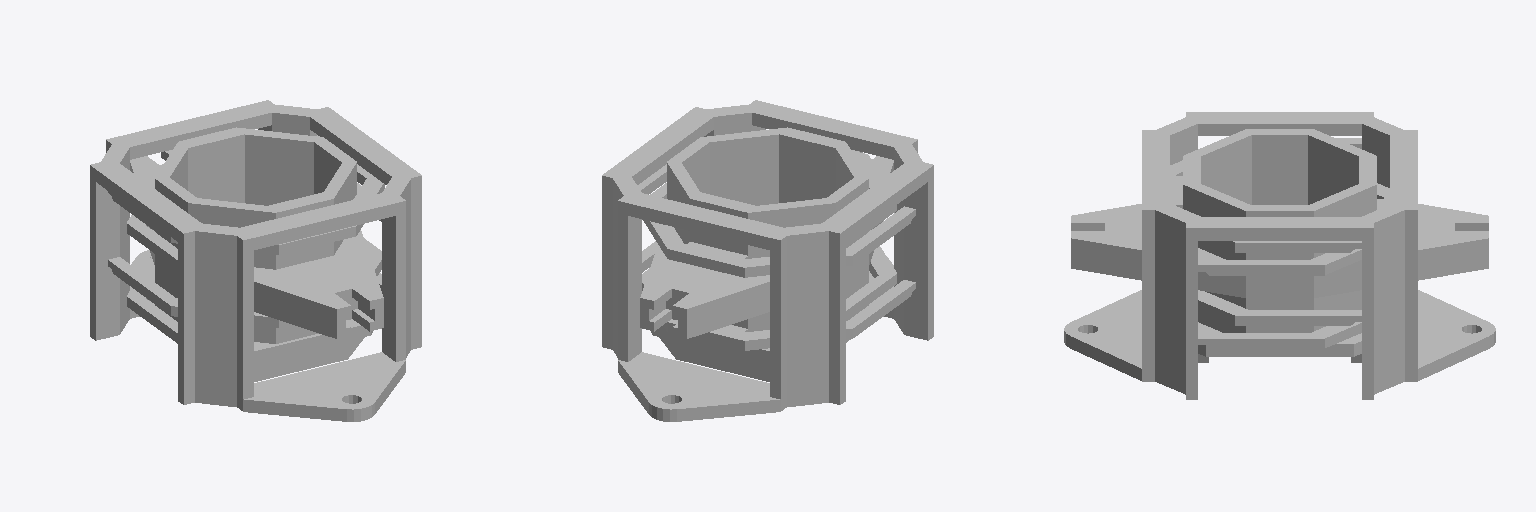
File: Cube 1x1 V5_Z Axis Sample V1.obj
3 views of the same model, side by side, from view 1: azimuth 30°, elevation 25°; view 2: azimuth 150°, elevation 25°; view 3: azimuth 270°, elevation 25° (orthographic).
Parts seen in each view (by area): view 1: Solid1:31; view 2: Solid1:31; view 3: Solid1:31.
Part boxes in pixels (left/top/right/bottom): Solid1:31: left=90, top=100, right=421, bottom=421; Solid1:31: left=602, top=100, right=933, bottom=421; Solid1:31: left=1064, top=112, right=1495, bottom=399.
Size of the model in its own units: 49.45 by 34 by 77.4.